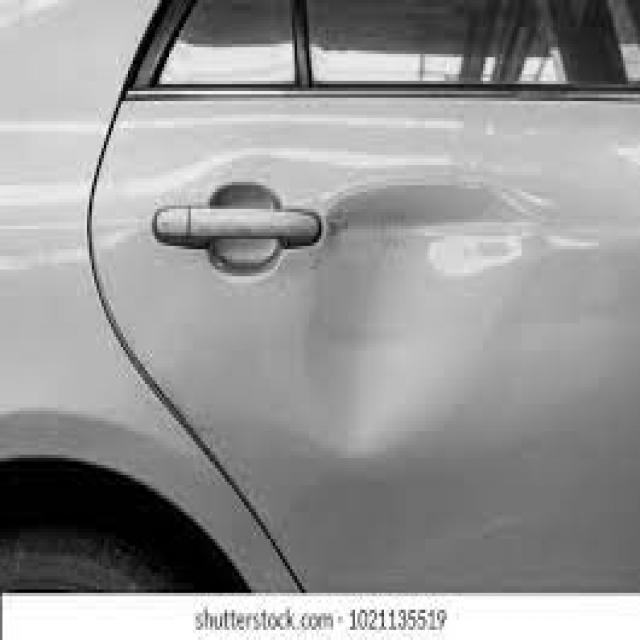minor: (286, 127, 468, 470)
